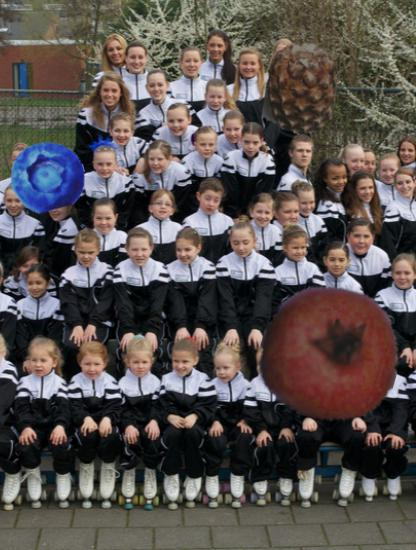Huckleberry: (10, 139, 86, 215)
Pineapple: (254, 41, 349, 136)
Pomegranate: (261, 284, 400, 423)
